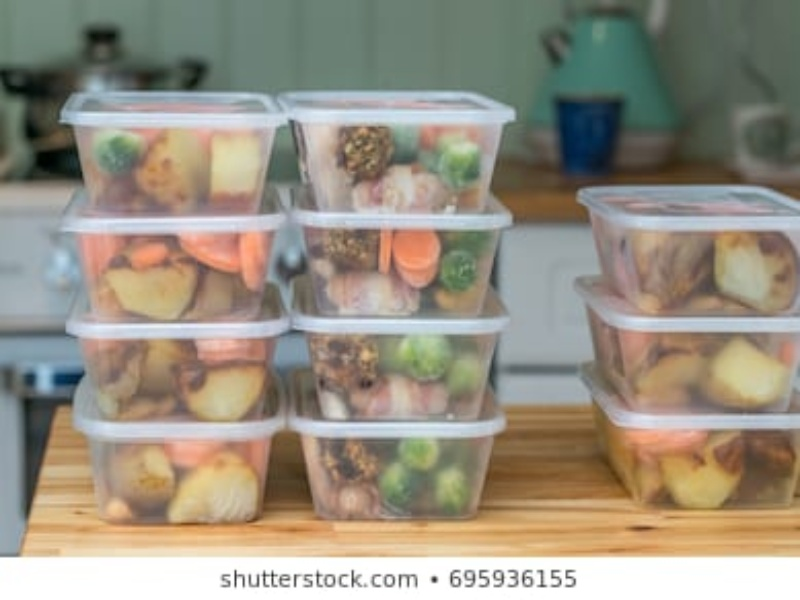plastic-container: (576, 357, 800, 512), (291, 368, 512, 525), (569, 167, 800, 315), (567, 267, 800, 411), (67, 387, 287, 526), (58, 82, 288, 208), (284, 86, 514, 212), (63, 202, 293, 328), (289, 298, 519, 424), (287, 196, 517, 322), (68, 307, 288, 421)
